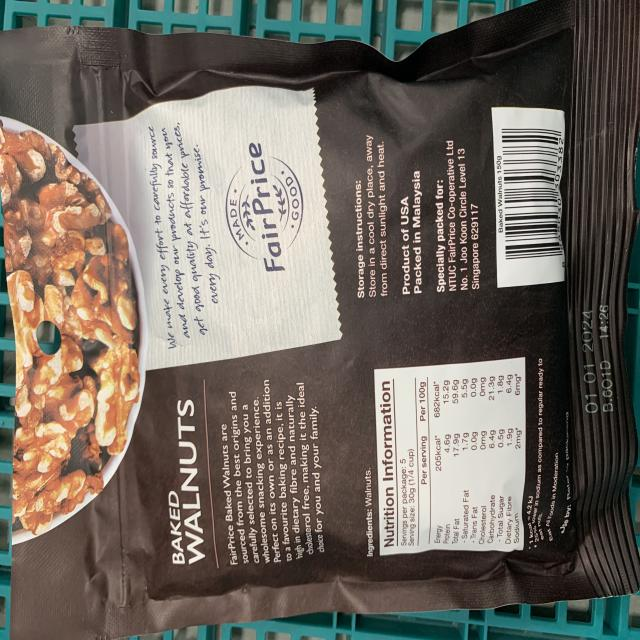object_name: (19, 44, 626, 593)
